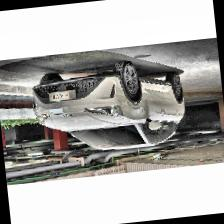EV: (30, 55, 192, 159)
